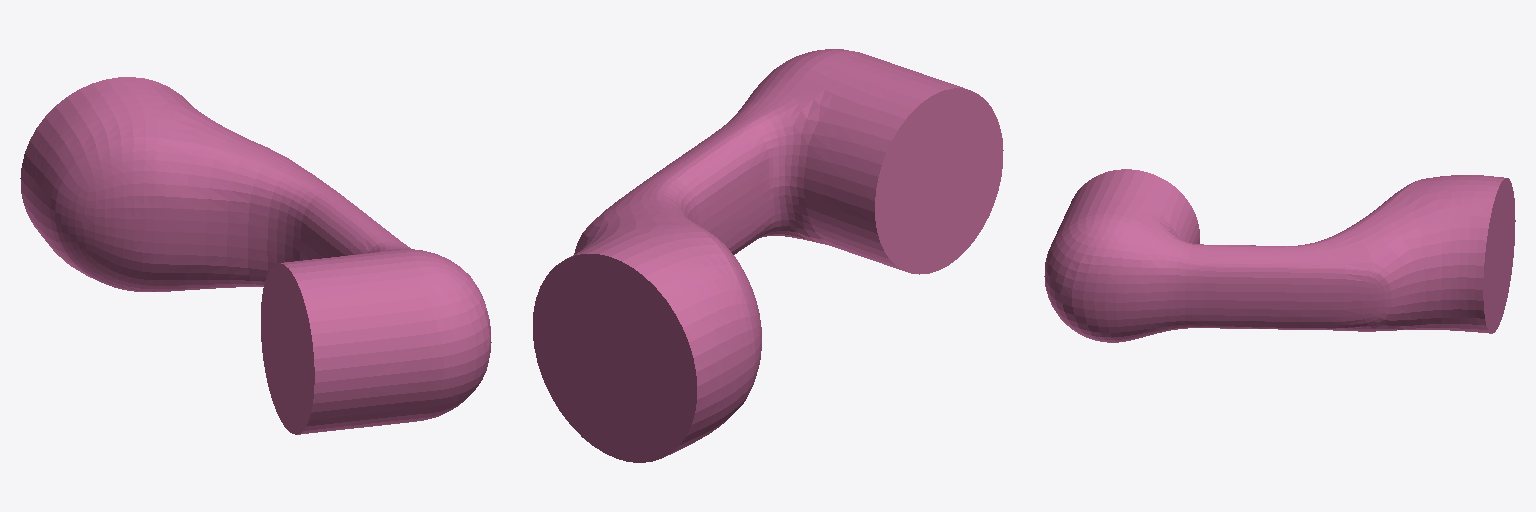
The robot description file, URDF, robot "fr3":
<?xml version="1.0" ?>
<!-- =================================================================================== -->
<!-- |    This document was autogenerated by xacro from fr3.urdf.xacro                 | -->
<!-- |    EDITING THIS FILE BY HAND IS NOT RECOMMENDED                                 | -->
<!-- =================================================================================== -->
<robot name="fr3">
  <!-- safety_distance: Minimum safety distance in [m] by which the collision volumes are expanded and which is enforced during robot motions -->
  <!-- arm_id: Namespace of the robot arm. Serves to differentiate between arms in case of multiple instances. -->
  <!-- joint_limits: description of the joint limits that comes from a YAML file. Example definition: ${xacro.load_yaml('$(find franka_description)/robots/fr3/joint_limits.yaml')} -->
  <!-- kinematics: description of the kinematics that comes from a YAML file. Example definition: ${xacro.load_yaml('$(find franka_description)/robots/fr3/kinematics.yaml')} -->
  <!-- inertials: description of the inertials that comes from a YAML file. Example definition: ${xacro.load_yaml('$(find franka_description)/robots/fr3/inertials.yaml')} -->
  <!-- dynamics: description of the dynamics that comes from a YAML file. Example definition: ${xacro.load_yaml('$(find franka_description)/robots/fr3/dynamics.yaml')} -->
  <link name="base">
      </link>
  <joint name="fr3_base_joint" type="fixed">
    <parent link="base"/>
    <child link="fr3_link0"/>
    <origin rpy="0 0 0" xyz="0 0 0"/>
  </joint>
  <!-- sub-link defining detailed meshes for collision with environment -->
  <link name="fr3_link0">
    <visual name="fr3_link0_visual">
      <geometry>
        <mesh filename="package://franka_description/meshes/robot_arms/fr3/visual/link0.dae"/>
      </geometry>
    </visual>
    <collision name="fr3_link0_collision">
      <geometry>
        <mesh filename="package://franka_description/meshes/robot_arms/fr3/collision/link0.stl"/>
      </geometry>
    </collision>
    <inertial>
      <origin rpy="0 0 0" xyz="-0.0172 0.0004 0.0745"/>
      <mass value="2.3966"/>
      <inertia ixx="0.009" ixy="0.0" ixz="0.002" iyy="0.0115" iyz="0.0" izz="0.0085"/>
    </inertial>
  </link>
  <!-- sub-link defining detailed meshes for collision with environment -->
  <link name="fr3_link1">
    <visual name="fr3_link1_visual">
      <geometry>
        <mesh filename="package://franka_description/meshes/robot_arms/fr3/visual/link1.dae"/>
      </geometry>
    </visual>
    <collision name="fr3_link1_collision">
      <geometry>
        <mesh filename="package://franka_description/meshes/robot_arms/fr3/collision/link1.stl"/>
      </geometry>
    </collision>
    <inertial>
      <origin rpy="0 0 0" xyz="0.0000004128 -0.0181251324 -0.0386035970"/>
      <mass value="2.9274653454"/>
      <inertia ixx="0.023927316485107913" ixy="1.3317903455714081e-05" ixz="-0.00011404774918616684" iyy="0.0224821613275756" iyz="-0.0019950320628240115" izz="0.006350098258530016"/>
    </inertial>
  </link>
  <joint name="fr3_joint1" type="revolute">
    <origin rpy="0 0 0" xyz="0 0 0.333"/>
    <parent link="fr3_link0"/>
    <child link="fr3_link1"/>
    <axis xyz="0 0 1"/>
    <limit effort="87.0" lower="-2.7437" upper="2.7437" velocity="2.62"/>
    <safety_controller k_position="100.0" k_velocity="40.0" soft_lower_limit="-2.7437" soft_upper_limit="2.7437"/>
    <dynamics D="1" K="7000" damping="0.003" friction="0.2" mu_coulomb="0" mu_viscous="16"/>
  </joint>
  <!-- sub-link defining detailed meshes for collision with environment -->
  <link name="fr3_link2">
    <visual name="fr3_link2_visual">
      <geometry>
        <mesh filename="package://franka_description/meshes/robot_arms/fr3/visual/link2.dae"/>
      </geometry>
    </visual>
    <collision name="fr3_link2_collision">
      <geometry>
        <mesh filename="package://franka_description/meshes/robot_arms/fr3/collision/link2.stl"/>
      </geometry>
    </collision>
    <inertial>
      <origin rpy="0 0 0" xyz="0.0031828864 -0.0743221644 0.0088146084"/>
      <mass value="2.9355370338"/>
      <inertia ixx="0.041938946257609425" ixy="0.00020257331521090626" ixz="0.004077784227179924" iyy="0.02514514885014724" iyz="-0.0042252158006570156" izz="0.06170214472888839"/>
    </inertial>
  </link>
  <joint name="fr3_joint2" type="revolute">
    <origin rpy="-1.570796326794897 0 0" xyz="0 0 0"/>
    <parent link="fr3_link1"/>
    <child link="fr3_link2"/>
    <axis xyz="0 0 1"/>
    <limit effort="87.0" lower="-1.7837" upper="1.7837" velocity="2.62"/>
    <safety_controller k_position="100.0" k_velocity="40.0" soft_lower_limit="-1.7837" soft_upper_limit="1.7837"/>
    <dynamics D="1" K="7000" damping="0.003" friction="0.2" mu_coulomb="0" mu_viscous="16"/>
  </joint>
  <!-- sub-link defining detailed meshes for collision with environment -->
  <link name="fr3_link3">
    <visual name="fr3_link3_visual">
      <geometry>
        <mesh filename="package://franka_description/meshes/robot_arms/fr3/visual/link3.dae"/>
      </geometry>
    </visual>
    <collision name="fr3_link3_collision">
      <geometry>
        <mesh filename="package://franka_description/meshes/robot_arms/fr3/collision/link3.stl"/>
      </geometry>
    </collision>
    <inertial>
      <origin rpy="0 0 0" xyz="0.0407015686 -0.0048200565 -0.0289730823"/>
      <mass value="2.2449013699"/>
      <inertia ixx="0.02410142547240885" ixy="0.002404694559042109" ixz="-0.002856269270114313" iyy="0.01974053266708178" iyz="-0.002104212683891874" izz="0.019044494482244823"/>
    </inertial>
  </link>
  <joint name="fr3_joint3" type="revolute">
    <origin rpy="1.570796326794897 0 0" xyz="0 -0.316 0"/>
    <parent link="fr3_link2"/>
    <child link="fr3_link3"/>
    <axis xyz="0 0 1"/>
    <limit effort="87.0" lower="-2.9007" upper="2.9007" velocity="2.62"/>
    <safety_controller k_position="100.0" k_velocity="40.0" soft_lower_limit="-2.9007" soft_upper_limit="2.9007"/>
    <dynamics D="1" K="7000" damping="0.003" friction="0.2" mu_coulomb="0" mu_viscous="16"/>
  </joint>
  <!-- sub-link defining detailed meshes for collision with environment -->
  <link name="fr3_link4">
    <visual name="fr3_link4_visual">
      <geometry>
        <mesh filename="package://franka_description/meshes/robot_arms/fr3/visual/link4.dae"/>
      </geometry>
    </visual>
    <collision name="fr3_link4_collision">
      <geometry>
        <mesh filename="package://franka_description/meshes/robot_arms/fr3/collision/link4.stl"/>
      </geometry>
    </collision>
    <inertial>
      <origin rpy="0 0 0" xyz="-0.0459100965 0.0630492960 -0.0085187868"/>
      <mass value="2.6155955791"/>
      <inertia ixx="0.03452998321913202" ixy="0.01322552265982813" ixz="0.01015142998484113" iyy="0.028881621933049058" iyz="-0.0009762833870704552" izz="0.04125471171146641"/>
    </inertial>
  </link>
  <joint name="fr3_joint4" type="revolute">
    <origin rpy="1.570796326794897 0 0" xyz="0.0825 0 0"/>
    <parent link="fr3_link3"/>
    <child link="fr3_link4"/>
    <axis xyz="0 0 1"/>
    <limit effort="87.0" lower="-3.0421" upper="-0.1518" velocity="2.62"/>
    <safety_controller k_position="100.0" k_velocity="40.0" soft_lower_limit="-3.0421" soft_upper_limit="-0.1518"/>
    <dynamics D="1" K="7000" damping="0.003" friction="0.2" mu_coulomb="0" mu_viscous="16"/>
  </joint>
  <!-- sub-link defining detailed meshes for collision with environment -->
  <link name="fr3_link5">
    <visual name="fr3_link5_visual">
      <geometry>
        <mesh filename="package://franka_description/meshes/robot_arms/fr3/visual/link5.dae"/>
      </geometry>
    </visual>
    <collision name="fr3_link5_collision">
      <geometry>
        <mesh filename="package://franka_description/meshes/robot_arms/fr3/collision/link5.stl"/>
      </geometry>
    </collision>
    <inertial>
      <origin rpy="0 0 0" xyz="-0.0016039605 0.0292536262 -0.0972965990"/>
      <mass value="2.3271207594"/>
      <inertia ixx="0.051610278463662895" ixy="-0.005715173387783472" ixz="-0.0035673167625872135" iyy="0.04787729713371481" iyz="0.010673985108535986" izz="0.016423625579357254"/>
    </inertial>
  </link>
  <joint name="fr3_joint5" type="revolute">
    <origin rpy="-1.570796326794897 0 0" xyz="-0.0825 0.384 0"/>
    <parent link="fr3_link4"/>
    <child link="fr3_link5"/>
    <axis xyz="0 0 1"/>
    <limit effort="12.0" lower="-2.8065" upper="2.8065" velocity="5.26"/>
    <safety_controller k_position="100.0" k_velocity="40.0" soft_lower_limit="-2.8065" soft_upper_limit="2.8065"/>
    <dynamics D="1" K="7000" damping="0.003" friction="0.2" mu_coulomb="0" mu_viscous="16"/>
  </joint>
  <!-- sub-link defining detailed meshes for collision with environment -->
  <link name="fr3_link6">
    <visual name="fr3_link6_visual">
      <geometry>
        <mesh filename="package://franka_description/meshes/robot_arms/fr3/visual/link6.dae"/>
      </geometry>
    </visual>
    <collision name="fr3_link6_collision">
      <geometry>
        <mesh filename="package://franka_description/meshes/robot_arms/fr3/collision/link6.stl"/>
      </geometry>
    </collision>
    <inertial>
      <origin rpy="0 0 0" xyz="0.0597131221 -0.0410294666 -0.0101692726"/>
      <mass value="1.8170376524"/>
      <inertia ixx="0.005412333594383447" ixy="0.006193456360285834" ixz="0.0014219289306117652" iyy="0.014058329545509979" iyz="-0.0013140753741120031" izz="0.016080817924212554"/>
    </inertial>
  </link>
  <joint name="fr3_joint6" type="revolute">
    <origin rpy="1.570796326794897 0 0" xyz="0 0 0"/>
    <parent link="fr3_link5"/>
    <child link="fr3_link6"/>
    <axis xyz="0 0 1"/>
    <limit effort="12.0" lower="0.5445" upper="4.5169" velocity="4.18"/>
    <safety_controller k_position="100.0" k_velocity="40.0" soft_lower_limit="0.5445" soft_upper_limit="4.5169"/>
    <dynamics D="1" K="7000" damping="0.003" friction="0.2" mu_coulomb="0" mu_viscous="16"/>
  </joint>
  <!-- sub-link defining detailed meshes for collision with environment -->
  <link name="fr3_link7">
    <visual name="fr3_link7_visual">
      <geometry>
        <mesh filename="package://franka_description/meshes/robot_arms/fr3/visual/link7.dae"/>
      </geometry>
    </visual>
    <collision name="fr3_link7_collision">
      <geometry>
        <mesh filename="package://franka_description/meshes/robot_arms/fr3/collision/link7.stl"/>
      </geometry>
    </collision>
    <inertial>
      <origin rpy="0 0 0" xyz="0.0045225817 0.0086261921 -0.0161633251"/>
      <mass value="0.6271432862"/>
      <inertia ixx="0.00021092389150104718" ixy="-2.433299114461931e-05" ixz="4.564480393778983e-05" iyy="0.00017718568002411474" iyz="8.744070223226438e-05" izz="5.993190599659971e-05"/>
    </inertial>
  </link>
  <joint name="fr3_joint7" type="revolute">
    <origin rpy="1.570796326794897 0 0" xyz="0.088 0 0"/>
    <parent link="fr3_link6"/>
    <child link="fr3_link7"/>
    <axis xyz="0 0 1"/>
    <limit effort="12.0" lower="-3.0159" upper="3.0159" velocity="5.26"/>
    <safety_controller k_position="100.0" k_velocity="40.0" soft_lower_limit="-3.0159" soft_upper_limit="3.0159"/>
    <dynamics D="1" K="7000" damping="0.003" friction="0.2" mu_coulomb="0" mu_viscous="16"/>
  </joint>
  <link name="fr3_link8"/>
  <joint name="fr3_joint8" type="fixed">
    <origin rpy="0 0 0" xyz="0 0 0.107"/>
    <parent link="fr3_link7"/>
    <child link="fr3_link8"/>
  </joint>
  <joint name="fr3_hand_joint" type="fixed">
    <parent link="fr3_link8"/>
    <child link="fr3_hand"/>
    <origin rpy="0 0 -0.7853981633974483" xyz="0 0 0"/>
  </joint>
  <!-- sub-link defining detailed meshes for collision with environment -->
  <link name="fr3_hand">
    <visual name="fr3_hand_visual">
      <geometry>
        <mesh filename="package://franka_description/meshes/robot_ee/franka_hand_white/visual/hand.dae"/>
      </geometry>
    </visual>
    <collision name="fr3_hand_collision">
      <geometry>
        <mesh filename="package://franka_description/meshes/robot_ee/franka_hand_white/collision/hand.stl"/>
      </geometry>
    </collision>
    <inertial>
      <origin rpy="0 0 0" xyz="-0.0000376 0.0119128 0.0207260"/>
      <mass value="0.6544"/>
      <inertia ixx="0.00186" ixy="0.0" ixz="0.0" iyy="0.0003" iyz="-2e-05" izz="0.00174"/>
    </inertial>
  </link>
  <!-- Define the hand_tcp frame -->
  <link name="fr3_hand_tcp"/>
  <joint name="fr3_hand_tcp_joint" type="fixed">
    <origin rpy="0 0 0" xyz="0 0 0.1034"/>
    <parent link="fr3_hand"/>
    <child link="fr3_hand_tcp"/>
  </joint>
  <link name="fr3_leftfinger">
    <visual name="fr3_leftfinger_visual">
      <geometry>
        <mesh filename="package://franka_description/meshes/robot_ee/franka_hand_white/visual/finger.dae"/>
      </geometry>
    </visual>
    <!-- screw mount -->
    <collision>
      <origin rpy="0 0 0" xyz="0 18.5e-3 11e-3"/>
      <geometry>
        <box size="22e-3 15e-3 20e-3"/>
      </geometry>
    </collision>
    <!-- cartriage sledge -->
    <collision>
      <origin rpy="0 0 0" xyz="0 6.8e-3 2.2e-3"/>
      <geometry>
        <box size="22e-3 8.8e-3 3.8e-3"/>
      </geometry>
    </collision>
    <!-- diagonal finger -->
    <collision>
      <origin rpy="0.5235987755982988 0 0" xyz="0 15.9e-3 28.35e-3"/>
      <geometry>
        <box size="17.5e-3 7e-3 23.5e-3"/>
      </geometry>
    </collision>
    <!-- rubber tip with which to grasp -->
    <collision>
      <origin rpy="0 0 0" xyz="0 7.58e-3 45.25e-3"/>
      <geometry>
        <box size="17.5e-3 15.2e-3 18.5e-3"/>
      </geometry>
    </collision>
    <inertial>
      <origin rpy="0 0 0" xyz="0 0.0152850 0.0219675"/>
      <mass value="0.0291"/>
      <inertia ixx="8.49e-06" ixy="0.0" ixz="0.0" iyy="8.53e-06" iyz="-1.06e-06" izz="1.77e-06"/>
    </inertial>
  </link>
  <link name="fr3_rightfinger">
    <visual name="fr3_rightfinger_visual">
      <origin rpy="0 0 0" xyz="0 0 0"/>
      <geometry>
        <mesh filename="package://franka_description/meshes/robot_ee/franka_hand_white/visual/finger.dae"/>
      </geometry>
    </visual>
    <!-- screw mount -->
    <collision>
      <origin rpy="0 0 0" xyz="0 18.5e-3 11e-3"/>
      <geometry>
        <box size="22e-3 15e-3 20e-3"/>
      </geometry>
    </collision>
    <!-- cartriage sledge -->
    <collision>
      <origin rpy="0 0 0" xyz="0 6.8e-3 2.2e-3"/>
      <geometry>
        <box size="22e-3 8.8e-3 3.8e-3"/>
      </geometry>
    </collision>
    <!-- diagonal finger -->
    <collision>
      <origin rpy="-0.5235987755982988 0 3.141592653589793" xyz="0 15.9e-3 28.35e-3"/>
      <geometry>
        <box size="17.5e-3 7e-3 23.5e-3"/>
      </geometry>
    </collision>
    <!-- rubber tip with which to grasp -->
    <collision>
      <origin rpy="0 0 0" xyz="0 7.58e-3 45.25e-3"/>
      <geometry>
        <box size="17.5e-3 15.2e-3 18.5e-3"/>
      </geometry>
    </collision>
    <inertial>
      <origin rpy="0 0 0" xyz="0 0.0152850 0.0219675"/>
      <mass value="0.0291"/>
      <inertia ixx="8.49e-06" ixy="0.0" ixz="0.0" iyy="8.53e-06" iyz="-1.06e-06" izz="1.77e-06"/>
    </inertial>
  </link>
  <joint name="fr3_finger_joint1" type="prismatic">
    <parent link="fr3_hand"/>
    <child link="fr3_leftfinger"/>
    <origin rpy="0 0 0" xyz="0 0 0.0584"/>
    <axis xyz="0 1 0"/>
    <limit effort="100" lower="0.0" upper="0.04" velocity="0.2"/>
    <dynamics damping="0.3"/>
  </joint>
  <joint name="fr3_finger_joint2" type="prismatic">
    <parent link="fr3_hand"/>
    <child link="fr3_rightfinger"/>
    <origin rpy="0 0 3.141592653589793" xyz="0 0 0.0584"/>
    <axis xyz="0 1 0"/>
    <limit effort="100" lower="0.0" upper="0.04" velocity="0.2"/>
    <mimic joint="fr3_finger_joint1"/>
    <dynamics damping="0.3"/>
  </joint>
</robot>

--- Render facts (derived) ---
Views: 3 orthographic renders of the robot side by side, from view 1: azimuth 30°, elevation 25°; view 2: azimuth 150°, elevation 25°; view 3: azimuth 270°, elevation 25°.
Model fr3 with 14 links and 13 joints (7 revolute, 2 prismatic, 4 fixed), rooted at base, posed joints at zero except 2 at the middle of their limits (fr3_joint4 = -1.6, fr3_joint6 = 2.53).
Visible links, largest first — view 1: fr3_link5; view 2: fr3_link5; view 3: fr3_link5.
Boxes of the visible links, bbox=[...] form: fr3_link5: bbox=[20, 77, 491, 434]; fr3_link5: bbox=[533, 49, 1003, 462]; fr3_link5: bbox=[1044, 169, 1515, 342].
Size in the robot's own frame: 0.1341 by 0.3302 by 0.1099 metres.
1 mesh visuals loaded from 10 distinct referenced files (1 Collada DAE); not drawn: 10 (reference not matched to a file when rendering).